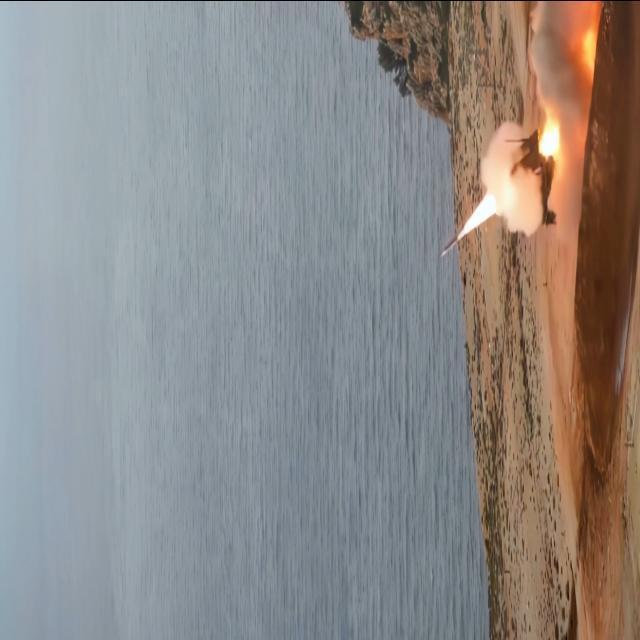Missile: (437, 225, 469, 260)
